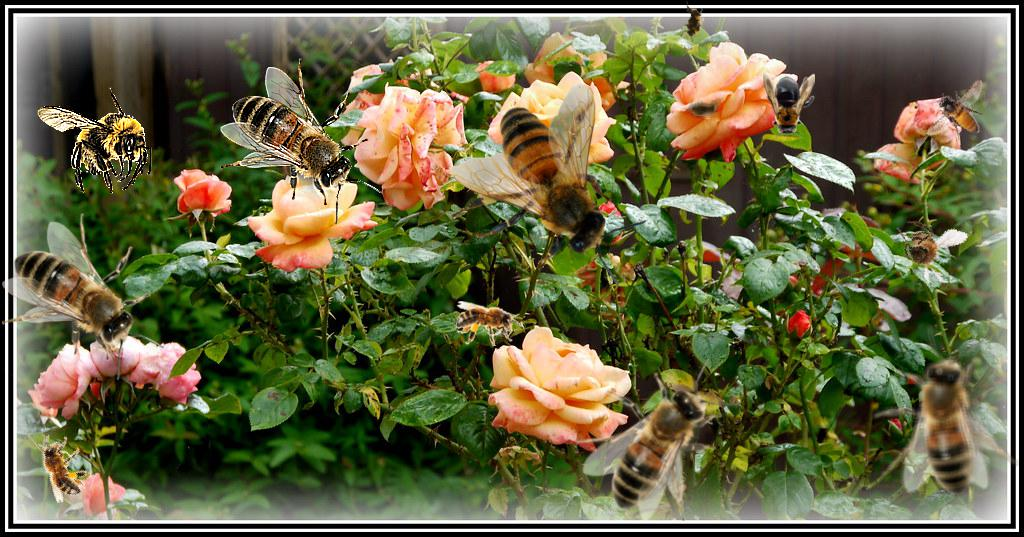Bee: (827, 304, 1024, 536), (449, 83, 648, 287), (220, 58, 382, 225), (574, 359, 741, 521), (2, 213, 164, 380), (37, 87, 152, 194), (881, 208, 970, 292), (914, 78, 1000, 151), (26, 425, 98, 506), (763, 72, 815, 140), (456, 301, 522, 346), (678, 1, 708, 45), (683, 98, 723, 120)
